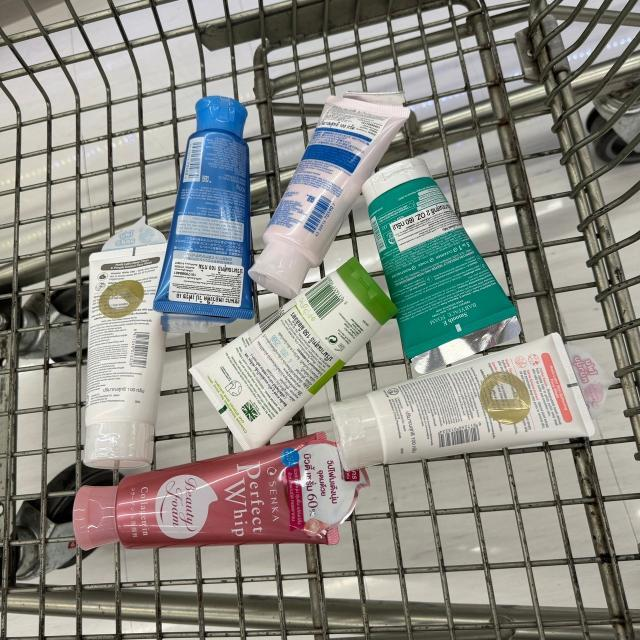Squeeze Tube: (72, 418, 368, 585), (183, 252, 399, 459), (321, 325, 594, 486), (349, 147, 527, 356), (248, 94, 413, 302), (145, 90, 264, 321), (62, 242, 173, 477)
